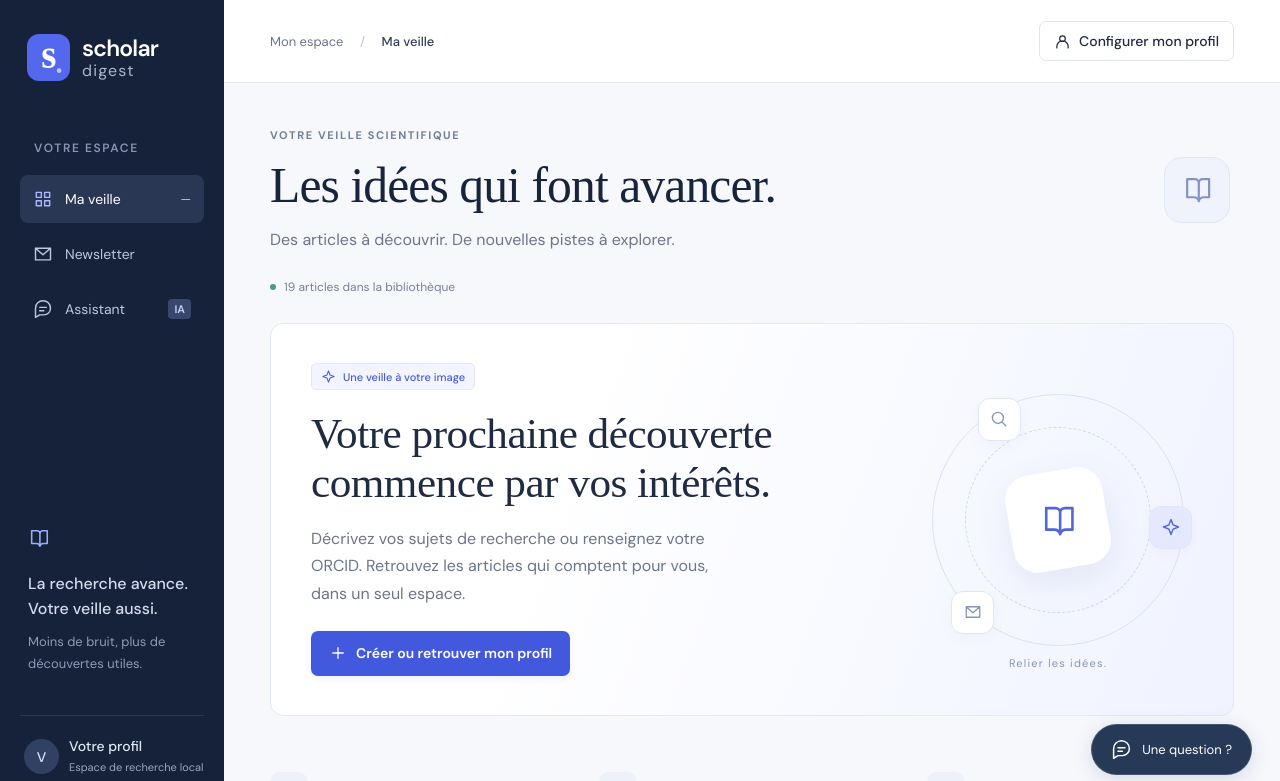
research workspace › sends an ORCID without an empty interests field
This screenshot has width=1280, height=781.
Click the button "Configurer mon profil" at {"x": 1137, "y": 41}, box [1039, 21, 1234, 61]
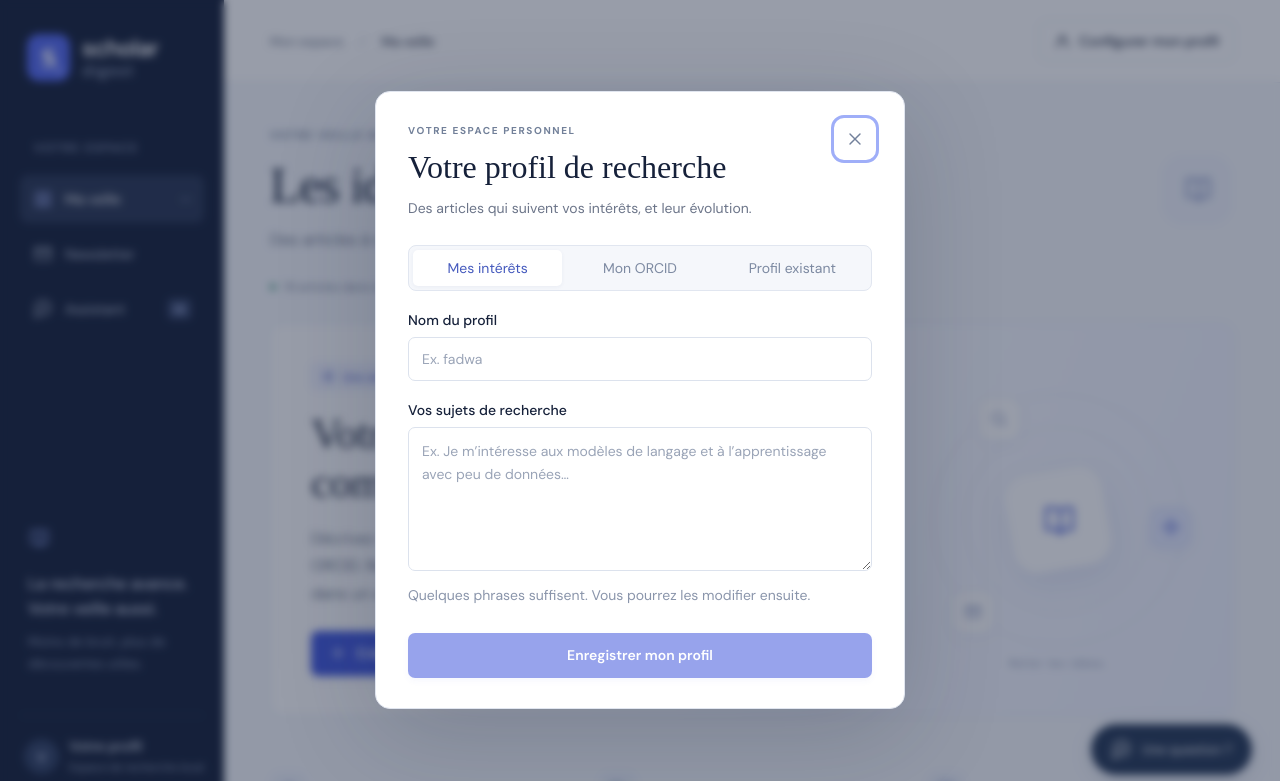
Click the button "Mon ORCID" at {"x": 640, "y": 268}, box [565, 250, 715, 286]
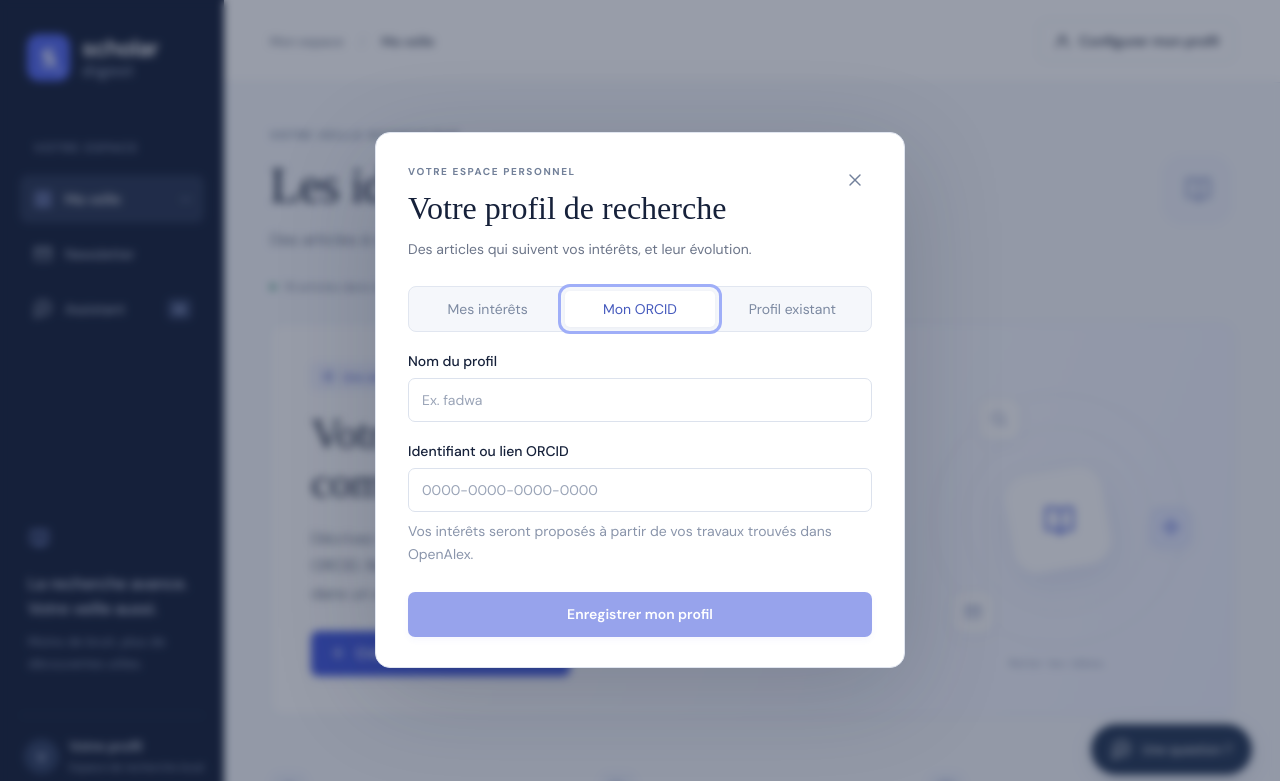
Type "alice" into the field labelled "Nom du profil" at {"x": 640, "y": 400}, box [408, 378, 872, 422]
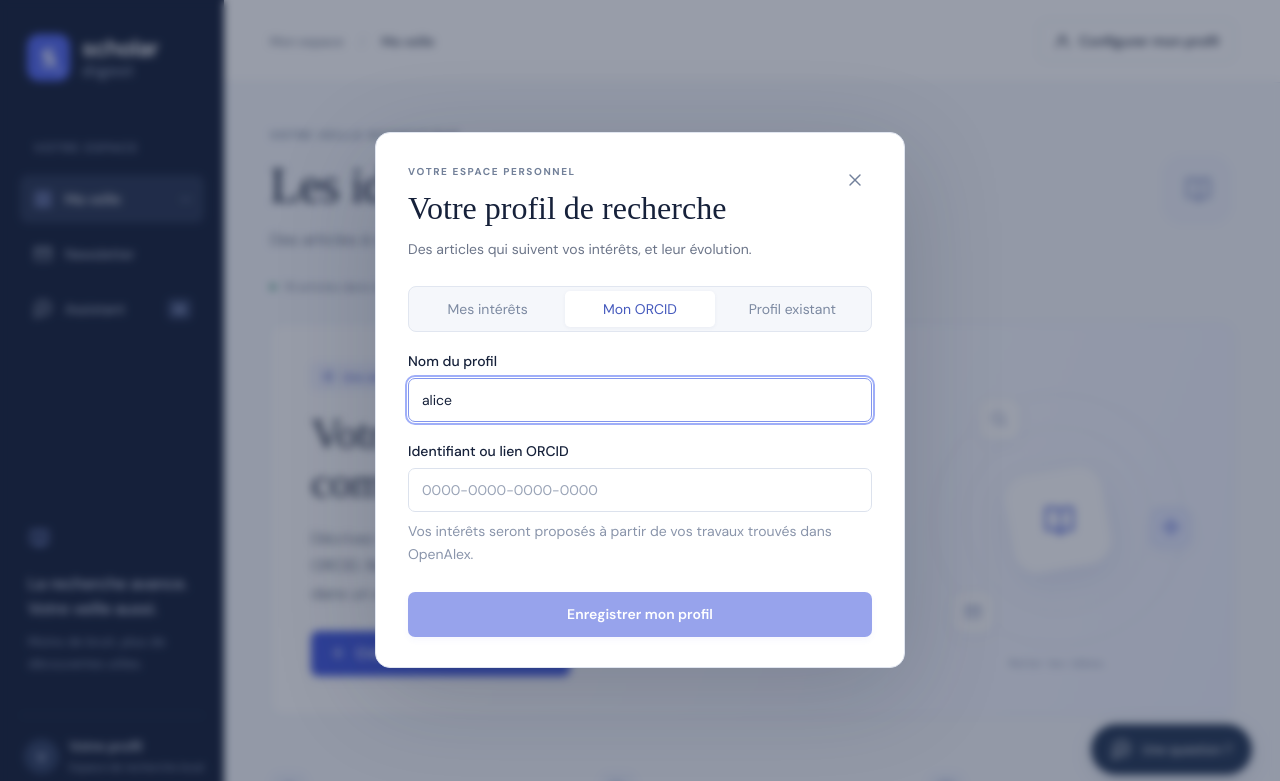
Type "0000-0001-2345-6789" into the field labelled "Identifiant ou lien ORCID" at {"x": 640, "y": 490}, box [408, 468, 872, 512]
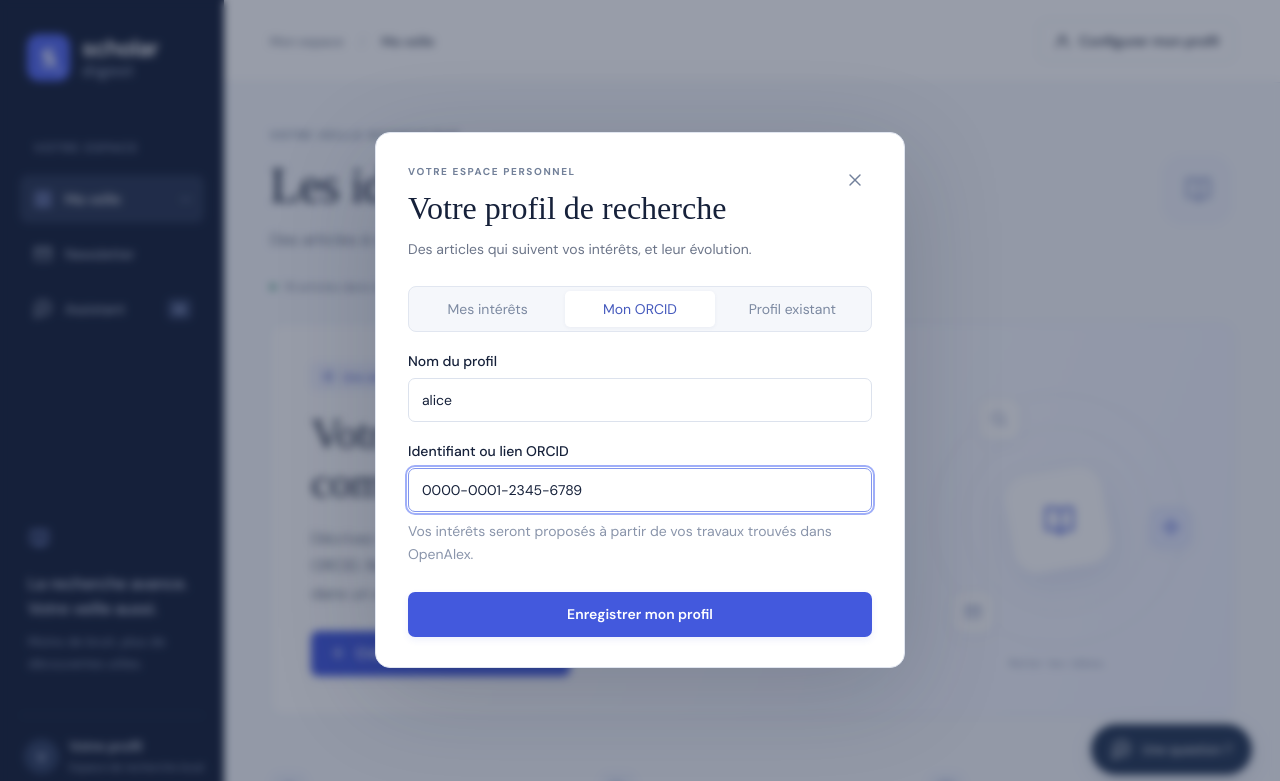
Click the button "Enregistrer mon profil" at {"x": 640, "y": 615}, box [408, 592, 872, 637]
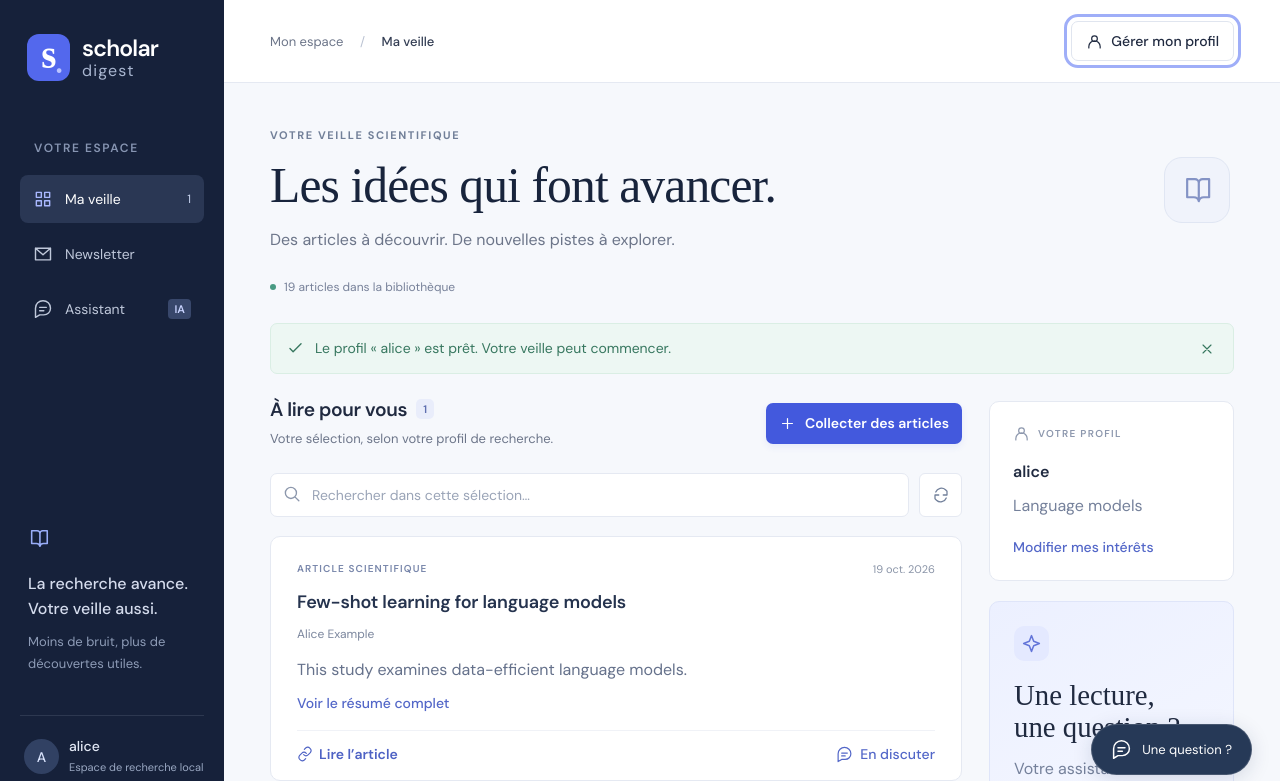
Expected: the heading "Few-shot learning for language models" is shown, [297, 590, 626, 614]
